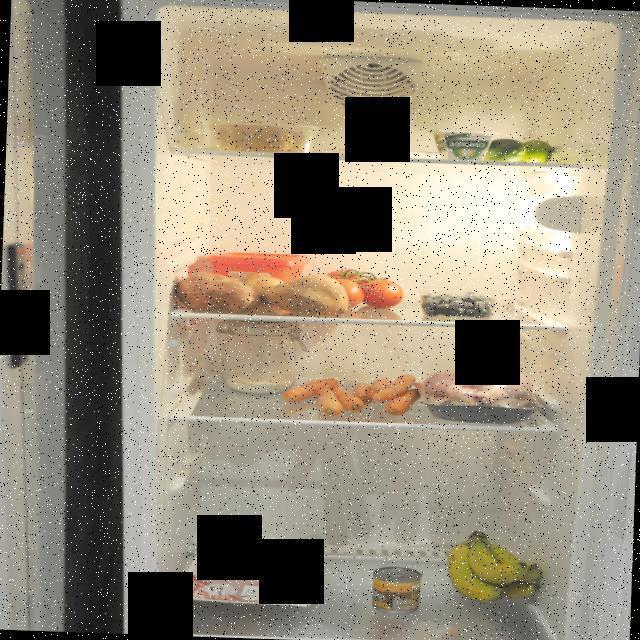banana: (436, 526, 552, 606)
blueberries: (420, 289, 494, 320)
butter: (202, 250, 314, 290)
carrot: (280, 369, 422, 422)
cheese: (352, 120, 408, 156)
chicken breast: (419, 358, 549, 426)
corn: (368, 564, 428, 614)
flour: (206, 320, 313, 398)
goat_cheese: (430, 129, 489, 164)
ham: (200, 549, 326, 606)
lime: (470, 136, 564, 166)
potato: (200, 106, 320, 158)
sweet_potato: (170, 262, 352, 318)
tomato: (317, 261, 409, 311)
